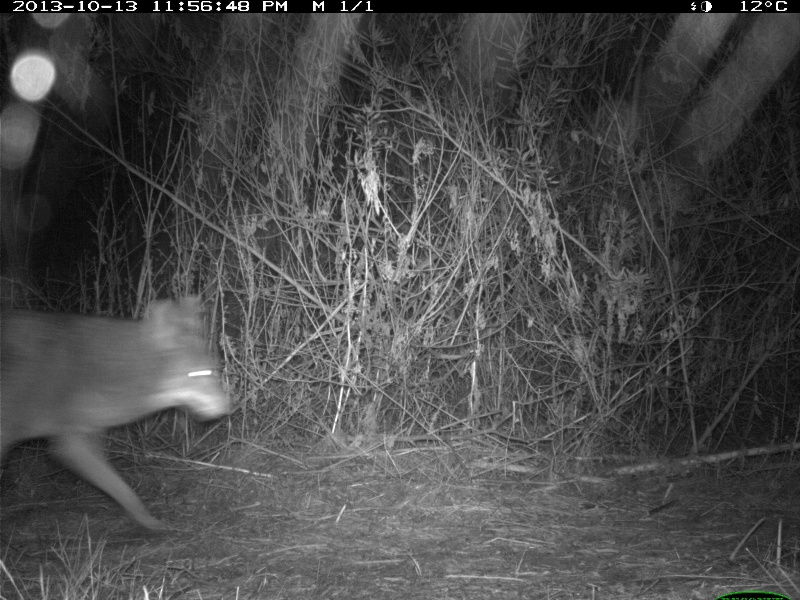coyote: (1, 291, 238, 545)
